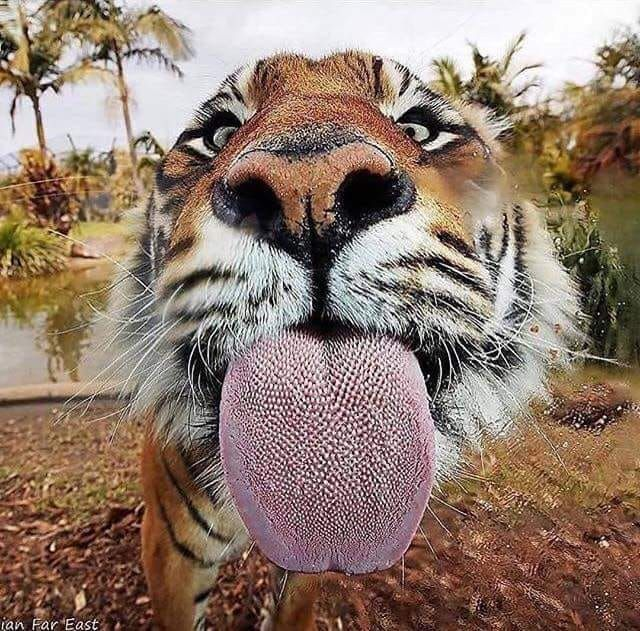Tigrew: (98, 44, 577, 588)
